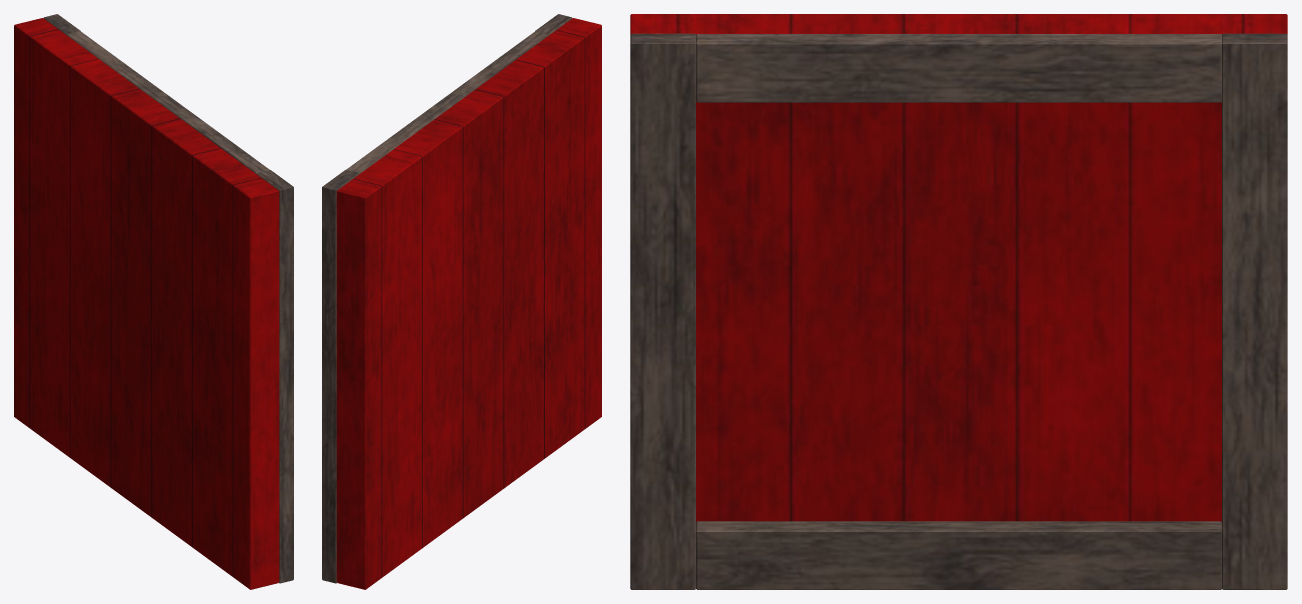
Rendered from StableWall_Small_LP.glb.
The picture shows the model from 3 angles, left to right: view 1: azimuth 30°, elevation 25°; view 2: azimuth 150°, elevation 25°; view 3: azimuth 270°, elevation 25°; orthographic projection. The views are drawn at different scales.
Visible parts, largest first — view 1: StableWall_Small_LP; view 2: StableWall_Small_LP; view 3: StableWall_Small_LP.
Boxes of the visible parts, bbox=[...] form: StableWall_Small_LP: bbox=[14, 14, 293, 589]; StableWall_Small_LP: bbox=[322, 14, 601, 589]; StableWall_Small_LP: bbox=[630, 14, 1287, 589].
Bounding box in the file's own units: 0.2333 × 1.99 × 2.17.
1 material, 1 textured.
